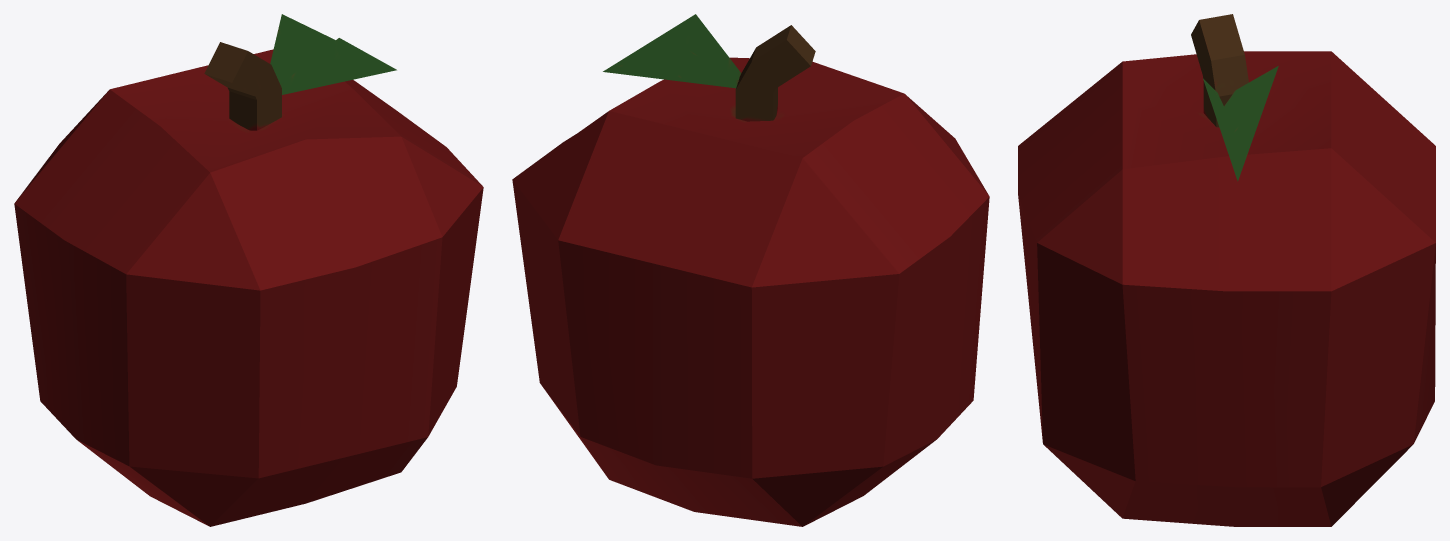
The model's file is apple.fbx.
The picture shows the model from 3 angles, left to right: view 1: azimuth 30°, elevation 25°; view 2: azimuth 150°, elevation 25°; view 3: azimuth 270°, elevation 25°; orthographic projection. The views are drawn at different scales.
Parts seen in each view (by area): view 1: apple; view 2: apple; view 3: apple.
Part boxes in pixels (<box>): apple: <box>14,14,483,526</box>; apple: <box>512,14,989,526</box>; apple: <box>1018,14,1435,526</box>.
Size of the model in its own units: 22.59 by 24.54 by 20.57.
